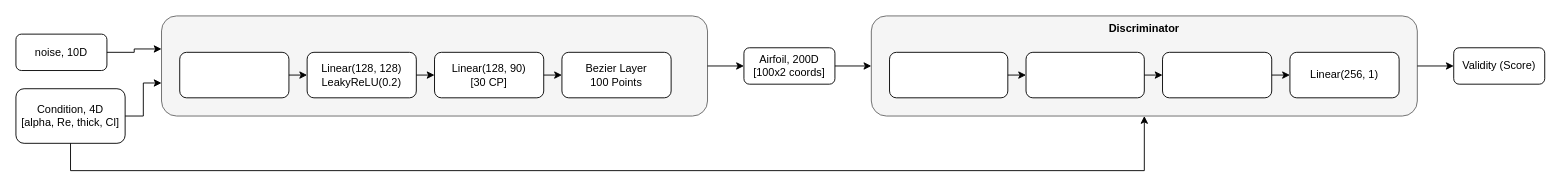
This 1561x194 diagram has some shape labels left out. Here are the shapes that lost their labels. From the top down, the box of each, then its label:
(179, 51, 289, 98): Linear(14, 128) LeakyReLU(0.2)
(161, 15, 708, 116): Generator
(889, 51, 1008, 98): Conv1d(2, 4, k=15) LeakyReLU(0.2)
(1025, 51, 1144, 98): Conv1d(4, 4, k=11, s=3)
(1162, 51, 1272, 98): Linear(140, 256) LeakyReLU(0.2)
